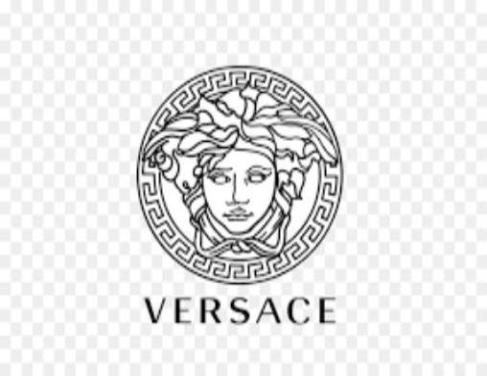VERSACE: (113, 47, 368, 334)
